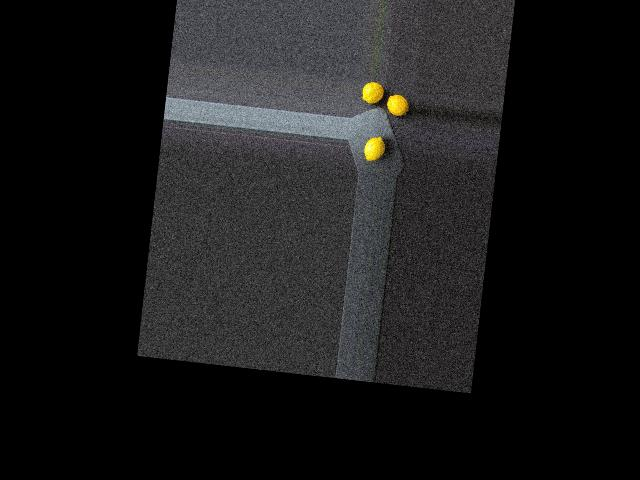lemon: (360, 79, 386, 106)
